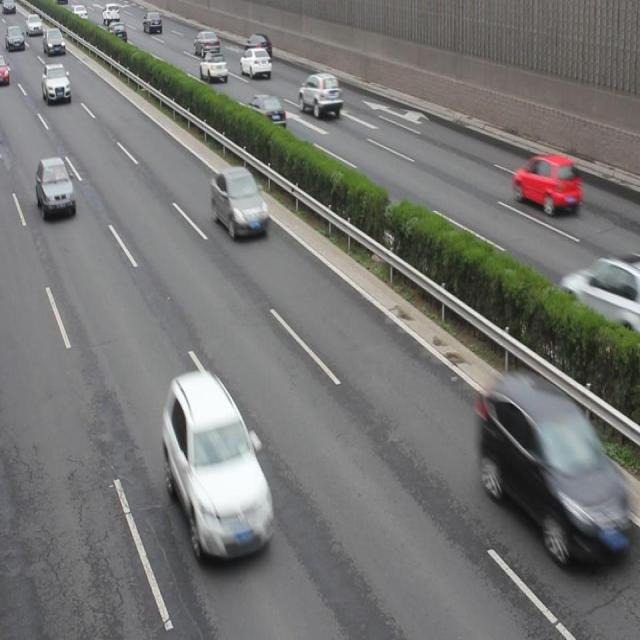car: (480, 376, 617, 569), (164, 377, 273, 559), (561, 257, 640, 333), (211, 166, 268, 237), (514, 152, 578, 213), (36, 156, 76, 217), (299, 73, 341, 119), (247, 93, 288, 131), (42, 63, 70, 102), (240, 48, 271, 78), (200, 51, 227, 82), (246, 32, 271, 58), (194, 30, 219, 56), (108, 21, 127, 45), (144, 12, 161, 34)
